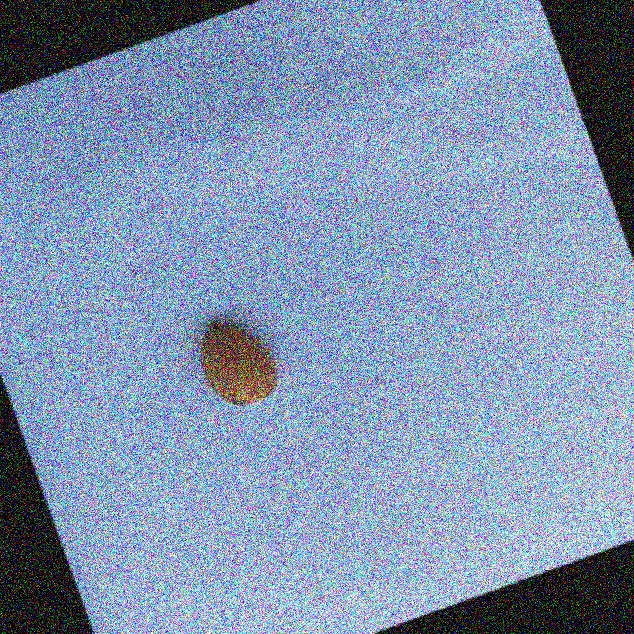grade2: (185, 303, 292, 419)
